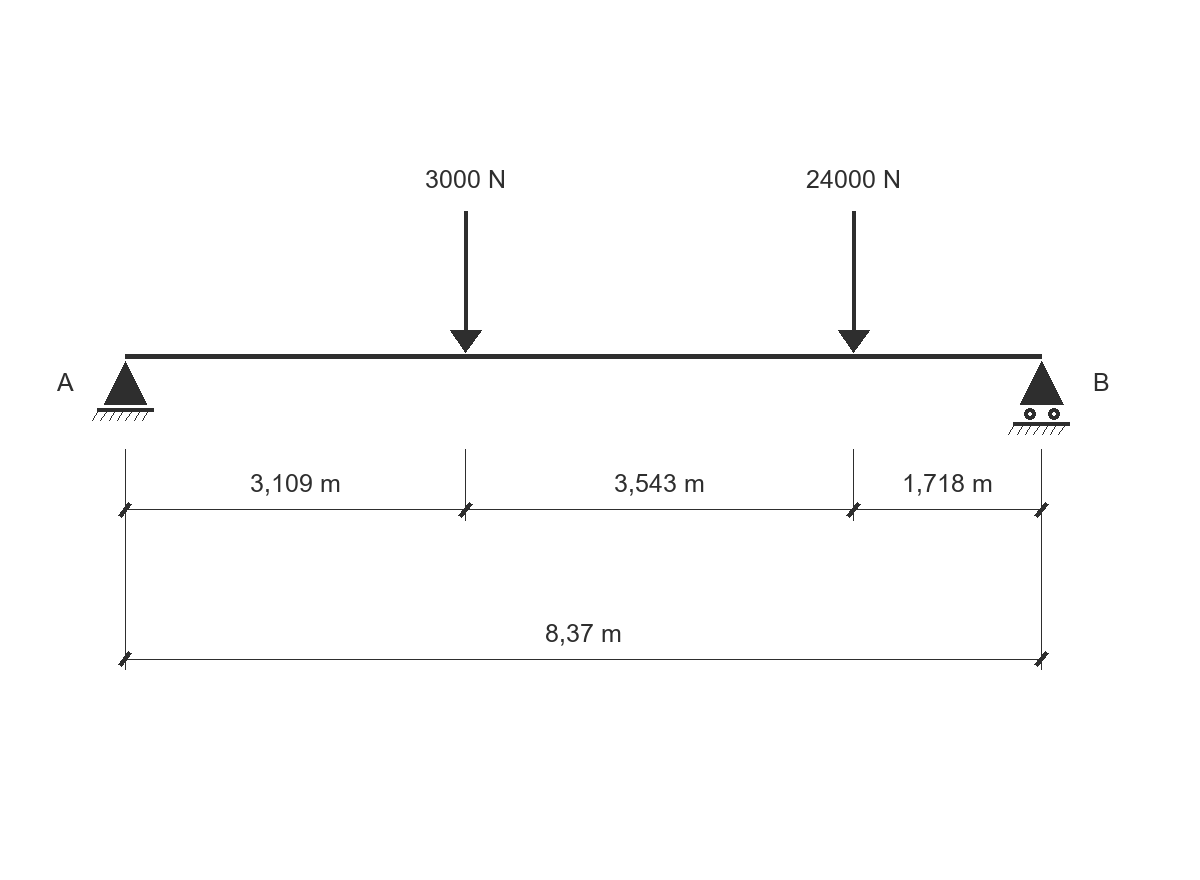pin_support: (92, 361, 154, 421)
point_load: (450, 211, 482, 353), (838, 211, 870, 353)
roller_support: (1008, 361, 1070, 435)
